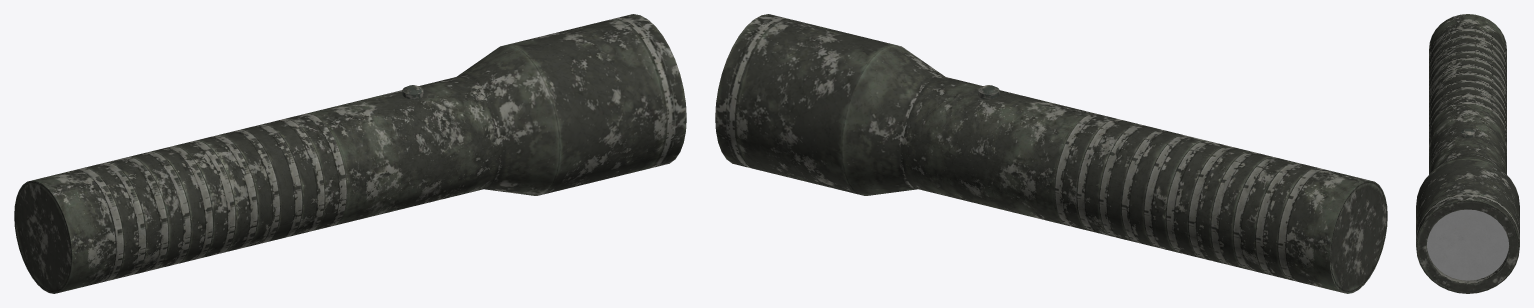
File: Flashlight.obj
3 views of the same model, side by side, from view 1: azimuth 30°, elevation 25°; view 2: azimuth 150°, elevation 25°; view 3: azimuth 270°, elevation 25° (orthographic). The views are drawn at different scales.
Parts seen in each view (by area): view 1: defaultMaterial; view 2: defaultMaterial; view 3: defaultMaterial, defaultMaterial.001.
Boxes of the visible parts, x1,y1,x2,y2 form: defaultMaterial: (14,14,686,293); defaultMaterial: (715,14,1387,293); defaultMaterial: (1416,14,1519,293); defaultMaterial.001: (1460,128,1475,137).
Bounding box in the file's own units: 2 × 0.4434 × 0.4434.
1 material, 1 textured.
